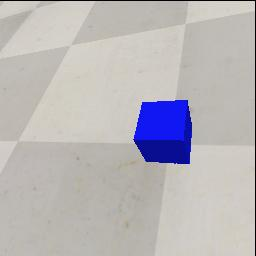box: (133, 100, 192, 164)
